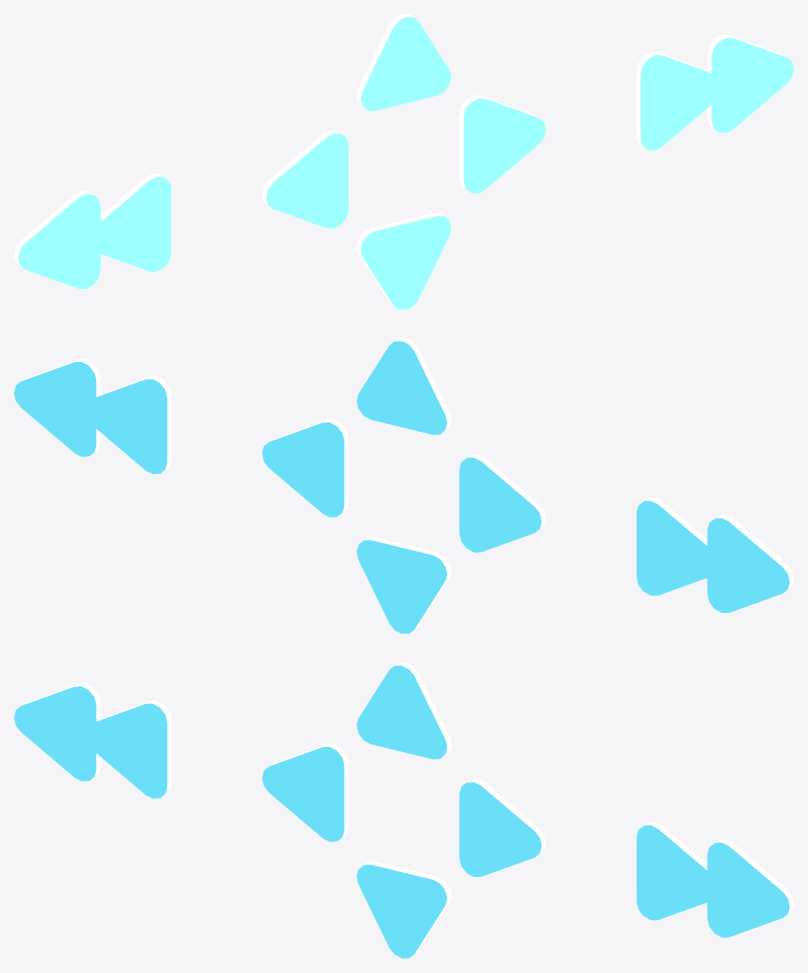
The model's file is GlbExplorerButtons.glb.
3 renders of one model, top to bottom at view 1: azimuth 30°, elevation 25°; view 2: azimuth 150°, elevation 25°; view 3: azimuth 330°, elevation 25°, orthographic.
Visible parts, largest first — view 1: Previous-Sofa Glass, Next-Sofa Glass, LeftButton-Sofa Glass, RightButton-Sofa Glass, UpButton-Sofa Glass, DownButton-Sofa Glass, Previous-Mat, Next-Mat, LeftButton-Mat, DownButton-Mat, UpButton-Mat, RightButton-Mat; view 2: Previous-Sofa Glass, Next-Sofa Glass, LeftButton-Sofa Glass, RightButton-Sofa Glass, UpButton-Sofa Glass, DownButton-Sofa Glass, Previous-Mat, Next-Mat, LeftButton-Mat, DownButton-Mat, UpButton-Mat, RightButton-Mat; view 3: Next-Sofa Glass, Previous-Sofa Glass, RightButton-Sofa Glass, LeftButton-Sofa Glass, DownButton-Sofa Glass, UpButton-Sofa Glass, Next-Mat, Previous-Mat, RightButton-Mat, DownButton-Mat, UpButton-Mat, LeftButton-Mat.
Boxes of the visible parts, x1=… form: Previous-Sofa Glass: x1=640, y1=38, x2=793, y2=149; Next-Sofa Glass: x1=18, y1=177, x2=171, y2=288; LeftButton-Sofa Glass: x1=463, y1=98, x2=545, y2=193; RightButton-Sofa Glass: x1=266, y1=133, x2=348, y2=228; UpButton-Sofa Glass: x1=360, y1=17, x2=451, y2=110; DownButton-Sofa Glass: x1=360, y1=216, x2=451, y2=309; Previous-Mat: x1=636, y1=35, x2=786, y2=147; Next-Mat: x1=14, y1=173, x2=162, y2=267; LeftButton-Mat: x1=459, y1=95, x2=537, y2=188; DownButton-Mat: x1=356, y1=213, x2=443, y2=306; UpButton-Mat: x1=356, y1=14, x2=412, y2=107; RightButton-Mat: x1=262, y1=130, x2=339, y2=207; Previous-Sofa Glass: x1=14, y1=362, x2=167, y2=473; Next-Sofa Glass: x1=636, y1=501, x2=789, y2=612; LeftButton-Sofa Glass: x1=262, y1=422, x2=344, y2=517; RightButton-Sofa Glass: x1=459, y1=457, x2=541, y2=552; UpButton-Sofa Glass: x1=356, y1=341, x2=447, y2=434; DownButton-Sofa Glass: x1=356, y1=540, x2=447, y2=633; Previous-Mat: x1=21, y1=359, x2=171, y2=471; Next-Mat: x1=645, y1=497, x2=793, y2=591; LeftButton-Mat: x1=270, y1=419, x2=348, y2=512; DownButton-Mat: x1=364, y1=537, x2=451, y2=630; UpButton-Mat: x1=395, y1=338, x2=451, y2=431; RightButton-Mat: x1=468, y1=454, x2=545, y2=531; Next-Sofa Glass: x1=14, y1=686, x2=167, y2=798; Previous-Sofa Glass: x1=636, y1=825, x2=789, y2=937; RightButton-Sofa Glass: x1=262, y1=747, x2=344, y2=841; LeftButton-Sofa Glass: x1=459, y1=782, x2=541, y2=876; DownButton-Sofa Glass: x1=356, y1=864, x2=447, y2=958; UpButton-Sofa Glass: x1=356, y1=665, x2=447, y2=759; Next-Mat: x1=21, y1=683, x2=171, y2=796; Previous-Mat: x1=644, y1=822, x2=793, y2=916; RightButton-Mat: x1=269, y1=744, x2=348, y2=839; DownButton-Mat: x1=364, y1=861, x2=451, y2=955; UpButton-Mat: x1=395, y1=662, x2=451, y2=757; LeftButton-Mat: x1=467, y1=779, x2=545, y2=855.
Size of what is drawn, in the model's own units: 2.16 by 0.7783 by 0.02.
